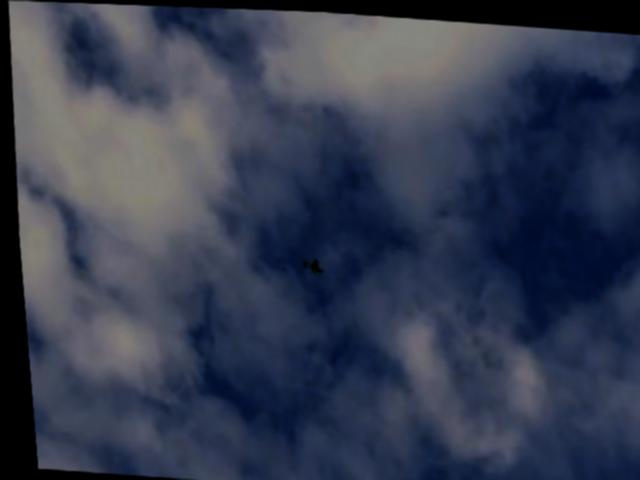uav: (296, 254, 322, 275)
